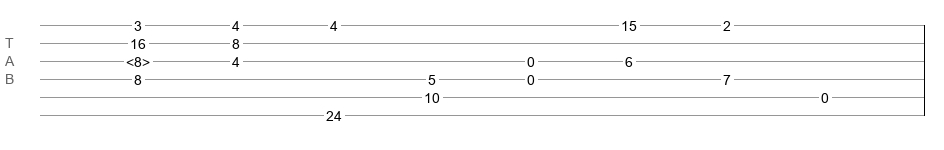0: (527, 72, 535, 82), (527, 54, 535, 64), (821, 90, 829, 100)
10: (424, 90, 440, 100)
15: (621, 18, 637, 28)
16: (130, 36, 146, 46)
2: (723, 18, 731, 28)
24: (326, 108, 342, 118)
3: (134, 18, 142, 28)
4: (232, 54, 240, 64), (232, 18, 240, 28), (330, 18, 338, 28)
5: (428, 72, 436, 82)
6: (625, 54, 633, 64)
7: (723, 72, 731, 82)
8: (134, 72, 142, 82), (232, 36, 240, 46)
harmonic: (126, 54, 150, 64)
